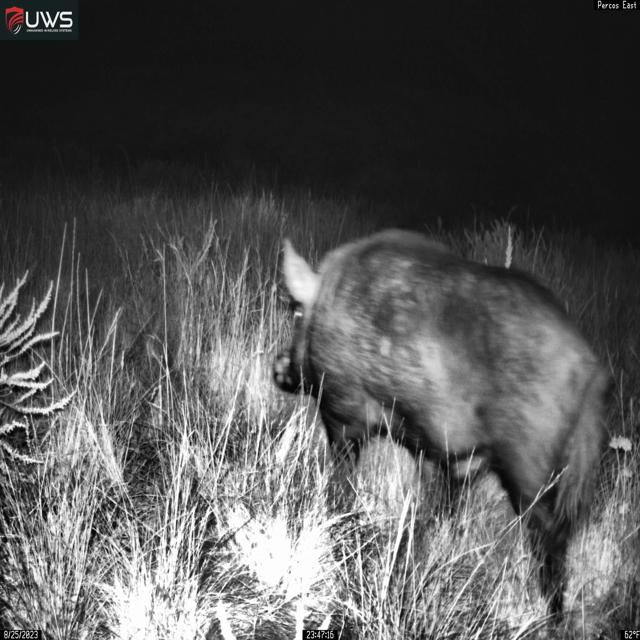pig: (271, 227, 614, 631)
